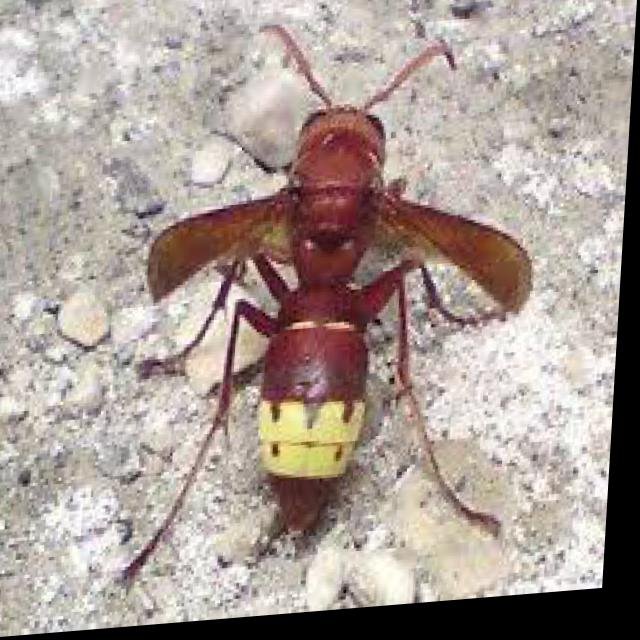Vespa Orientalis: (95, 0, 575, 628)
